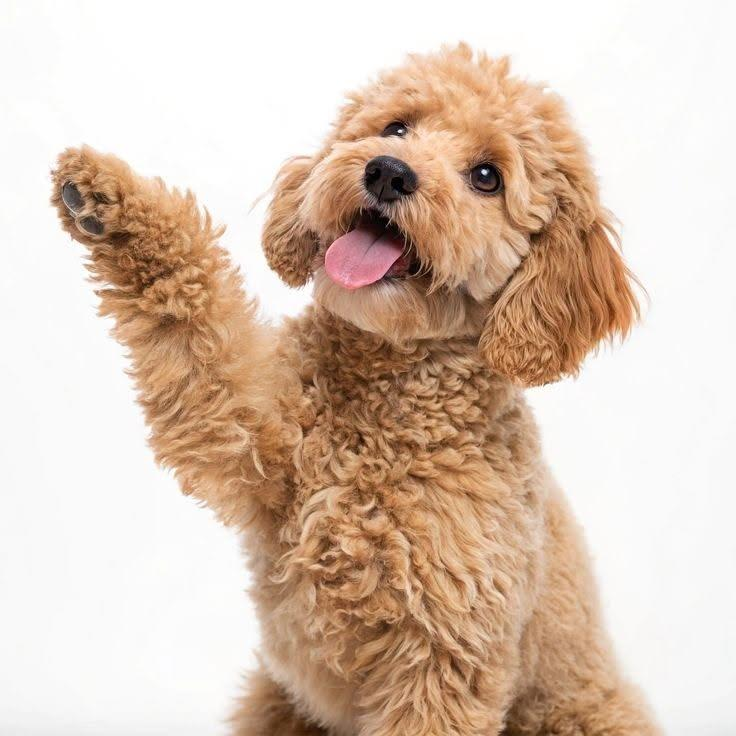adult_dog: (48, 35, 668, 736)
